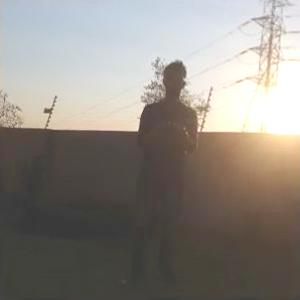follow: (128, 58, 198, 282)
